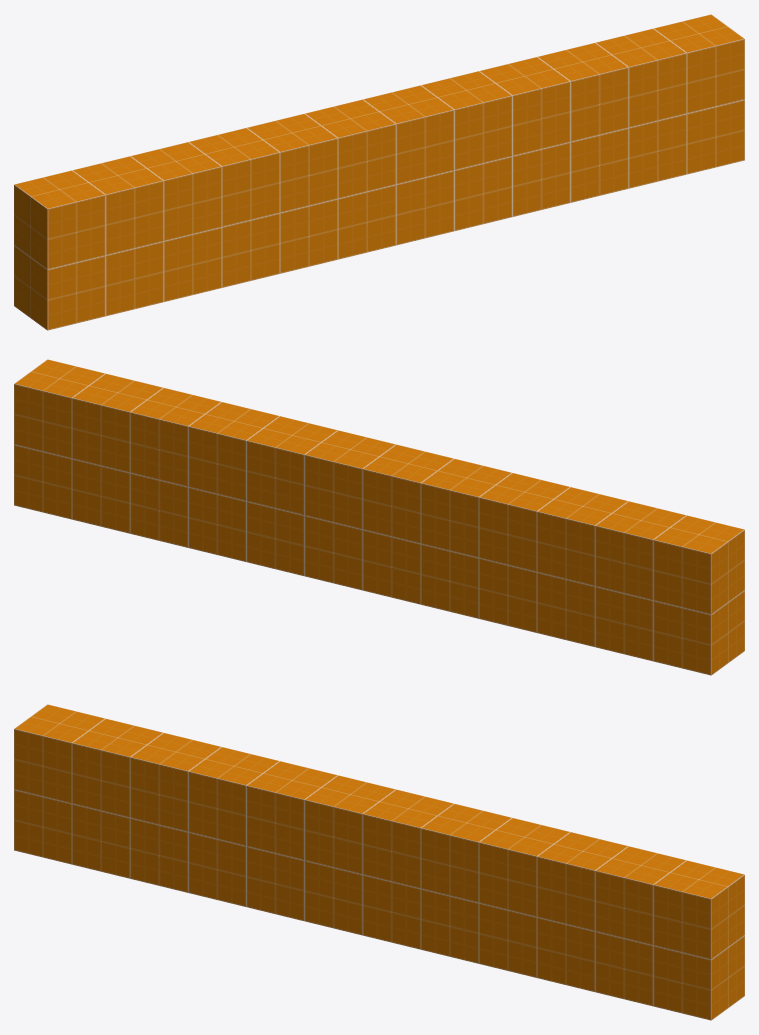
The model's file is Block_12x1x2.obj.
3 renders of one model, top to bottom at view 1: azimuth 30°, elevation 25°; view 2: azimuth 150°, elevation 25°; view 3: azimuth 330°, elevation 25°, orthographic.
Visible parts, largest first — view 1: Block_12x1x2_Cube.237; view 2: Block_12x1x2_Cube.237; view 3: Block_12x1x2_Cube.237.
Part boxes in pixels (x1,y1,x2,y2): Block_12x1x2_Cube.237: (14, 14, 744, 330); Block_12x1x2_Cube.237: (14, 359, 744, 675); Block_12x1x2_Cube.237: (14, 704, 744, 1020).
Size of the model in its own units: 12 by 2 by 1.
1 material, 1 textured.
